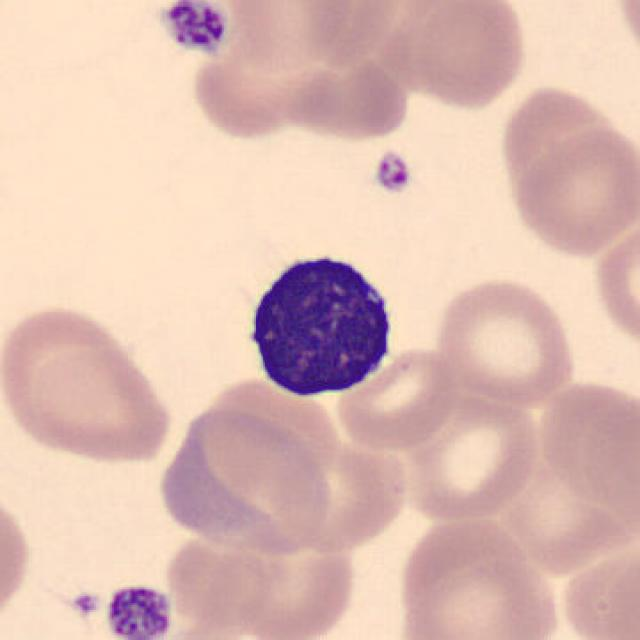Lymphocyte: (233, 238, 407, 406)
Platelets: (101, 580, 176, 640), (157, 0, 231, 58), (372, 148, 414, 198), (69, 589, 103, 619)
RBC: (187, 2, 410, 146), (0, 298, 178, 469), (153, 399, 338, 557), (392, 509, 563, 640), (430, 273, 580, 409), (396, 388, 544, 525), (503, 83, 634, 227), (503, 122, 638, 259), (494, 453, 635, 577), (224, 513, 361, 640), (532, 372, 636, 531), (396, 0, 532, 113), (332, 344, 462, 451), (215, 0, 366, 74), (554, 541, 640, 639), (292, 0, 404, 71), (590, 215, 638, 356), (0, 483, 36, 633), (135, 619, 295, 640), (608, 0, 640, 71)
